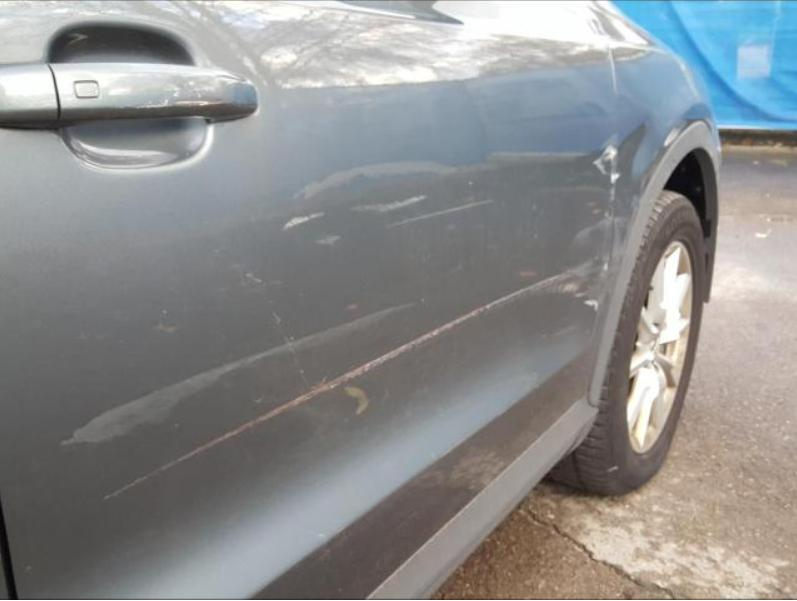Fender: (589, 0, 719, 395)
Front-door: (0, 0, 612, 600)
Front-wheel: (544, 190, 705, 498)
Rocker-panel: (362, 390, 597, 600)
